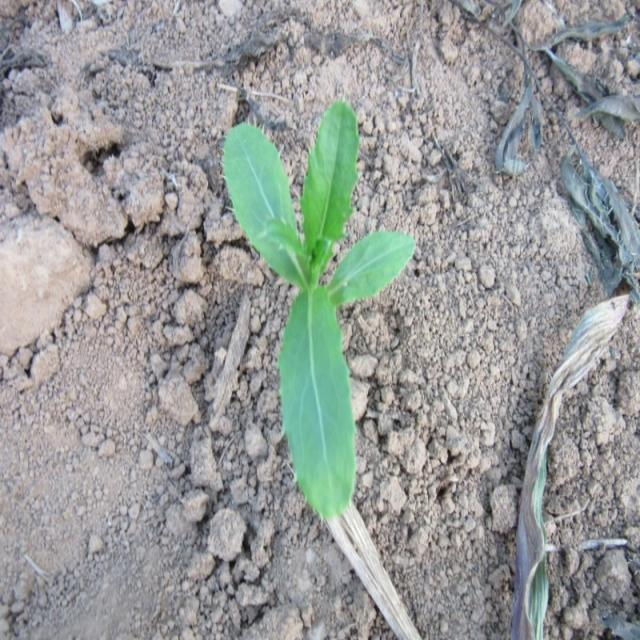cs: (218, 96, 419, 521)
